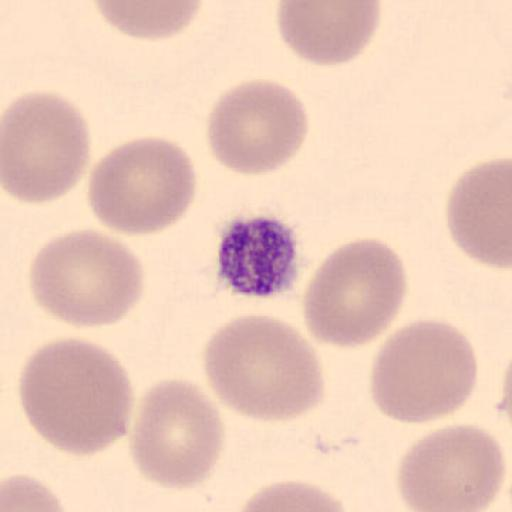Platelet: (212, 212, 304, 300)
RBC: (16, 334, 135, 458), (202, 312, 326, 424), (302, 236, 410, 350), (28, 227, 146, 330), (368, 317, 480, 425), (86, 135, 198, 237), (128, 377, 226, 492), (205, 77, 310, 175), (2, 90, 92, 204), (395, 421, 506, 512), (445, 157, 512, 270), (275, 0, 383, 68), (89, 0, 204, 42), (232, 476, 352, 512), (1, 472, 71, 512)
